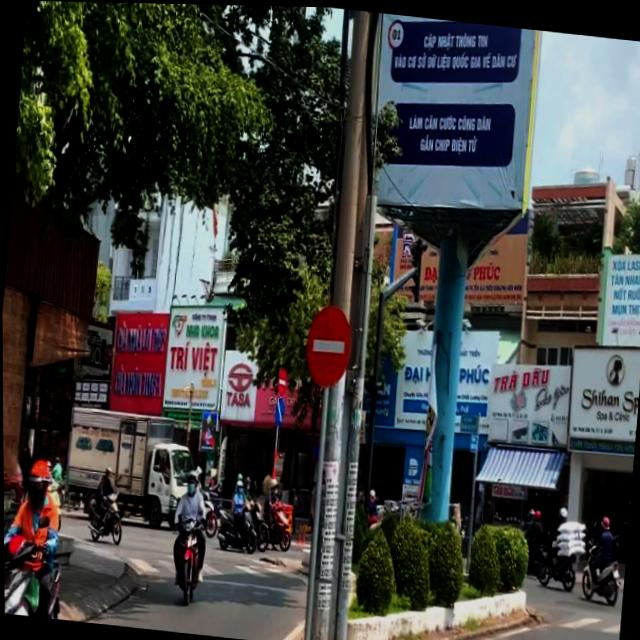Cam di nguoc chieu: (302, 300, 354, 389)
